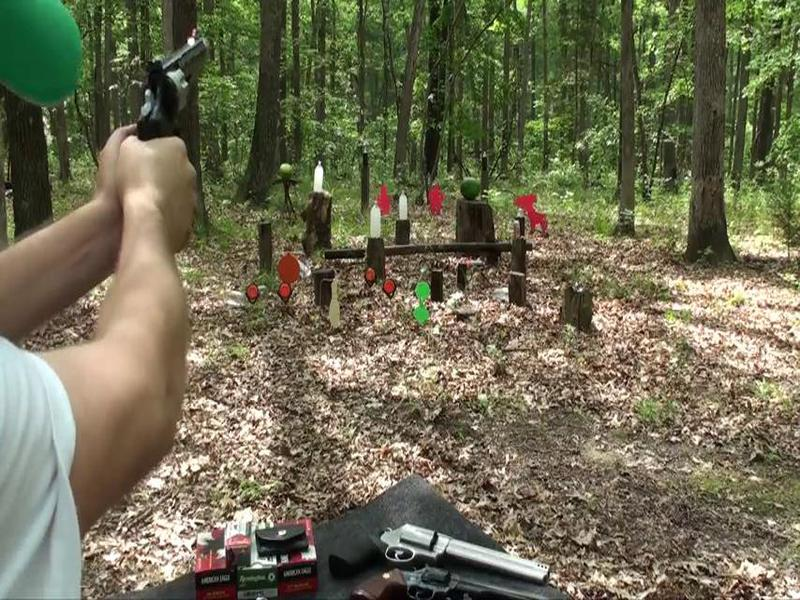Revolver: (122, 19, 211, 161)
